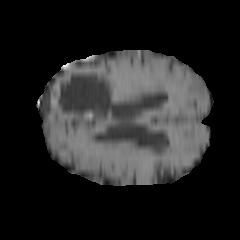glioma: (50, 69, 179, 169)
